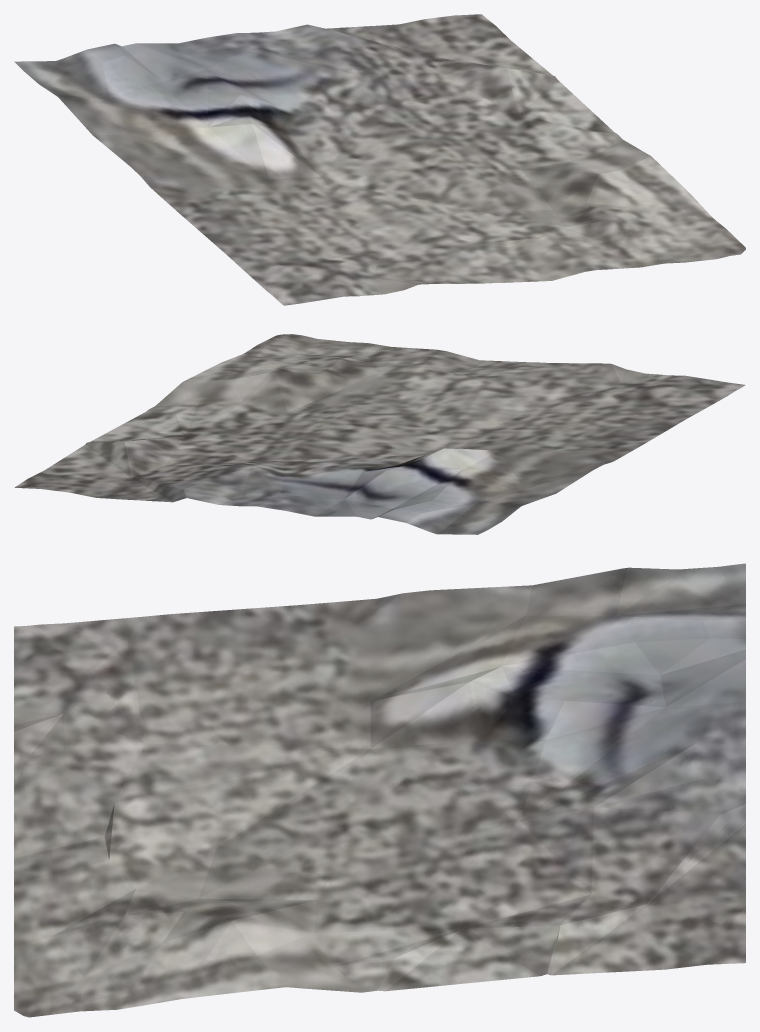
3 views of the same model, one above another, from view 1: azimuth 30°, elevation 25°; view 2: azimuth 150°, elevation 25°; view 3: azimuth 270°, elevation 25° (orthographic). The views are drawn at different scales.
Bounding box in the file's own units: 0.8373 × 0.1826 × 0.8373.
Materials: 2 (2 with a texture image).
